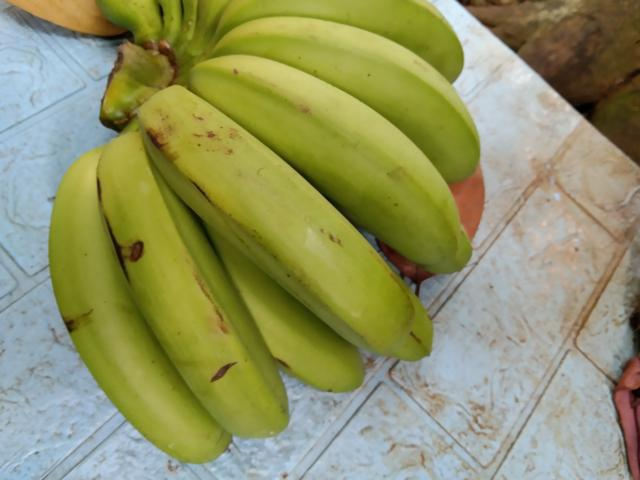freshunripe: (40, 141, 236, 478), (187, 52, 467, 270), (218, 13, 496, 185)
unripe: (139, 81, 419, 353)
